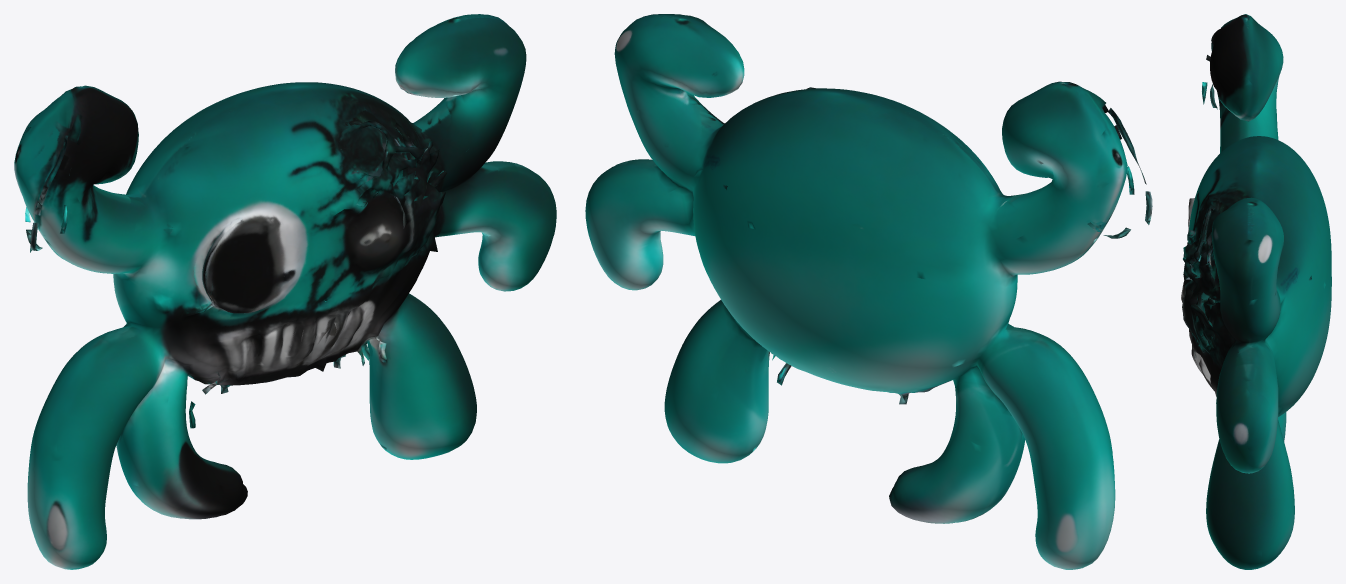
The model's file is squid.glb.
3 renders of one model, left to right at view 1: azimuth 30°, elevation 25°; view 2: azimuth 150°, elevation 25°; view 3: azimuth 270°, elevation 25°, orthographic. The views are drawn at different scales.
Parts seen in each view (by area): view 1: Object_2; view 2: Object_2; view 3: Object_2.
Part boxes in pixels (x1,y1,x2,y2): Object_2: [14, 14, 556, 569]; Object_2: [585, 14, 1152, 569]; Object_2: [1181, 14, 1331, 569].
Bounding box in the file's own units: 2 × 1.69 × 0.5512.
Materials: 1 (1 with a texture image).
